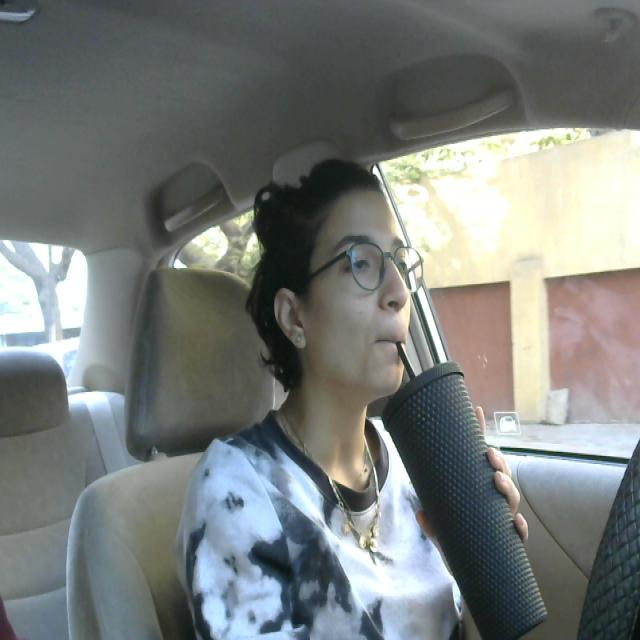Seatbelt: (381, 370, 552, 640)
